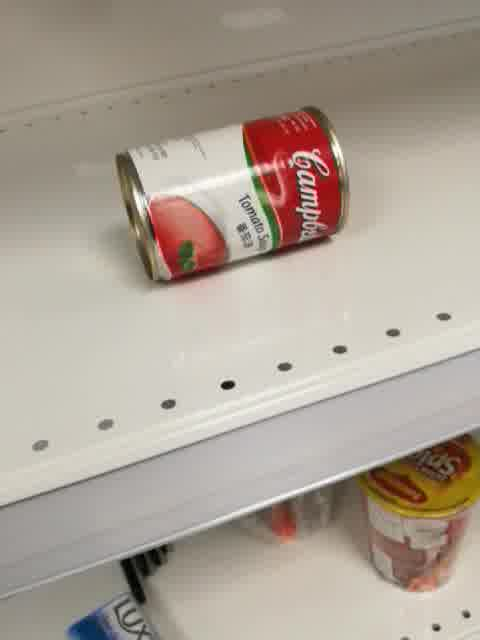tomatosoup: (114, 105, 351, 286)
